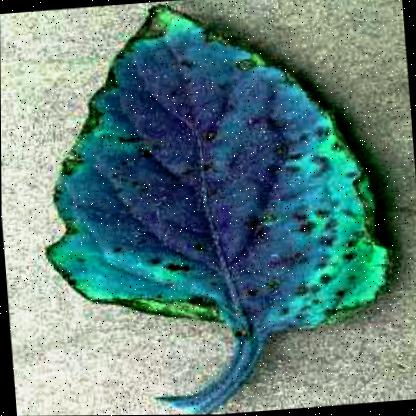BACTERIAL SPOT: (26, 0, 405, 415)
